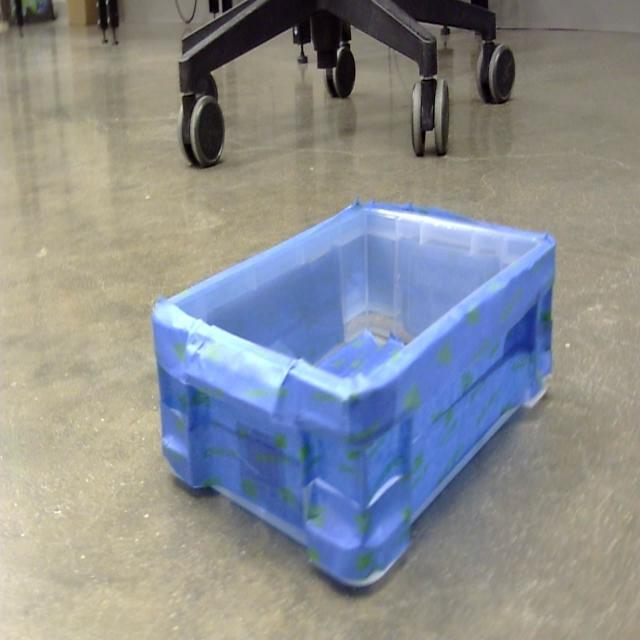bucket: (150, 199, 558, 594)
